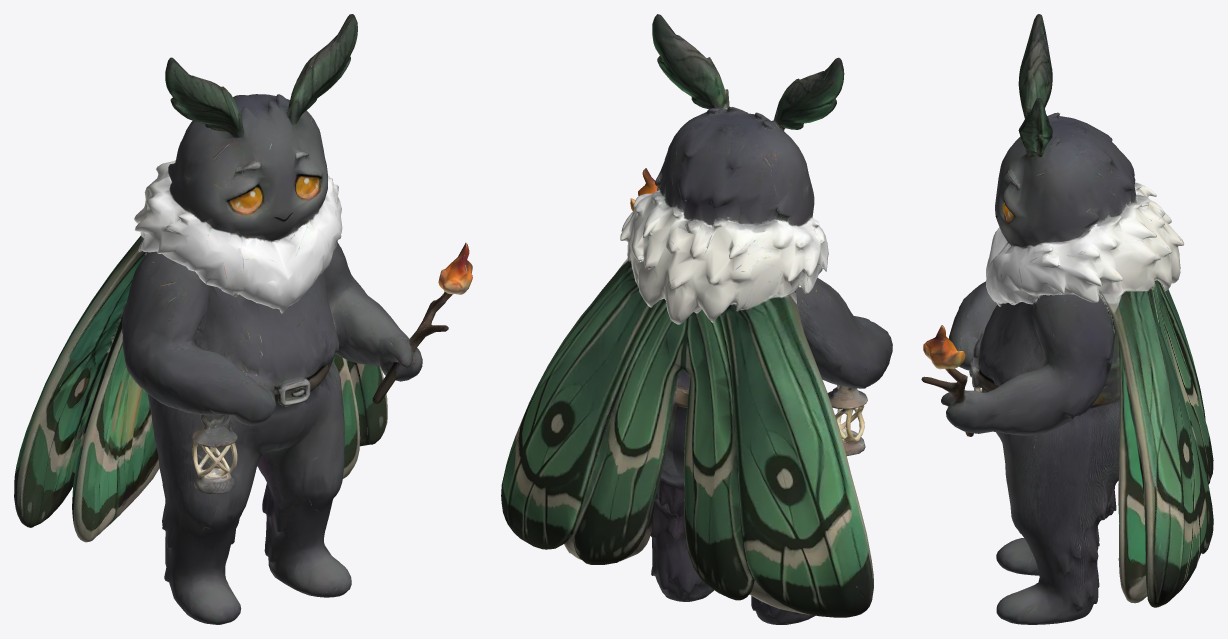
The model's file is char-mothman.glb.
3 views of the same model, side by side, from view 1: azimuth 30°, elevation 25°; view 2: azimuth 150°, elevation 25°; view 3: azimuth 270°, elevation 25° (orthographic). The views are drawn at different scales.
Parts seen in each view (by area): view 1: Mesh_0; view 2: Mesh_0; view 3: Mesh_0.
Part boxes in pixels (x1=…): Mesh_0: x1=14, y1=14, x2=472, y2=624; Mesh_0: x1=501, y1=14, x2=892, y2=624; Mesh_0: x1=921, y1=14, x2=1213, y2=624.
Bounding box in the file's own units: 1.32 × 1.9 × 0.9423.
1 material, 1 textured.
